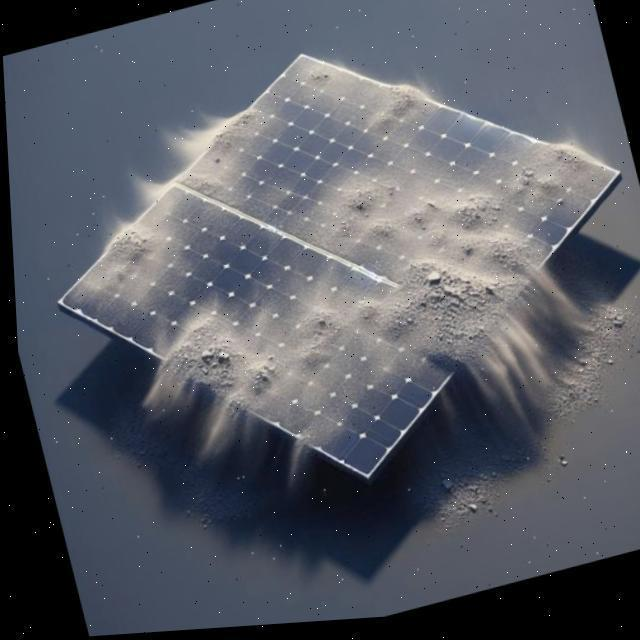Anomaly Solar Panel: (58, 0, 618, 528)
Surface Contaminant: (137, 33, 640, 513), (58, 94, 334, 370), (252, 48, 443, 158)
